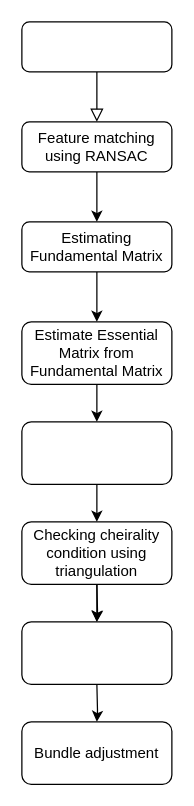
Some shapes in this 194 by 806 pixel diagram are drawn without their labels. Each missing label, with the centre of its shape:
Estimating camera pose from Essential Matrix: point 96,452
Loading the images: point 96,46
Perspective-n-point: point 96,652
